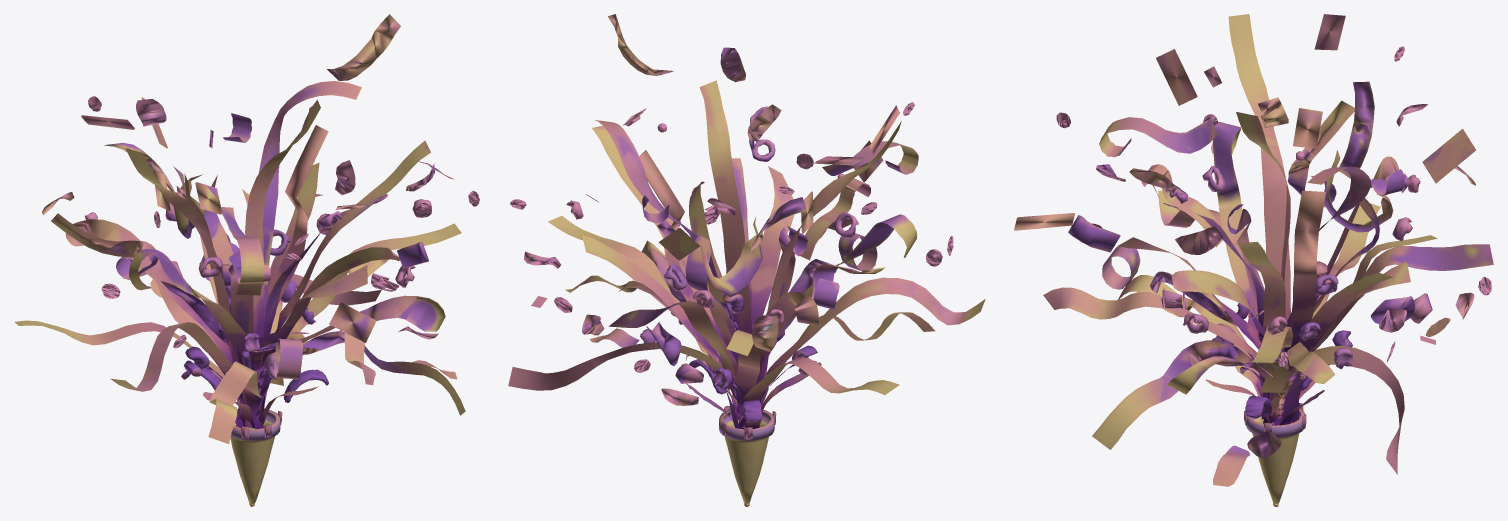
The model's file is r33-confetti.glb.
The picture shows the model from 3 angles, left to right: view 1: azimuth 30°, elevation 25°; view 2: azimuth 150°, elevation 25°; view 3: azimuth 270°, elevation 25°; orthographic projection. The views are drawn at different scales.
Parts seen in each view (by area): view 1: tripo_node_cf36402e-9b3e-4809-8497-7f7076f44841; view 2: tripo_node_cf36402e-9b3e-4809-8497-7f7076f44841; view 3: tripo_node_cf36402e-9b3e-4809-8497-7f7076f44841.
Boxes of the visible parts, x1,y1,x2,y2 form: tripo_node_cf36402e-9b3e-4809-8497-7f7076f44841: (14,14,479,506); tripo_node_cf36402e-9b3e-4809-8497-7f7076f44841: (508,14,985,506); tripo_node_cf36402e-9b3e-4809-8497-7f7076f44841: (1014,14,1493,506).
Size of the model in its own units: 0.9707 by 0.998 by 0.9043.
1 material, 1 textured.
